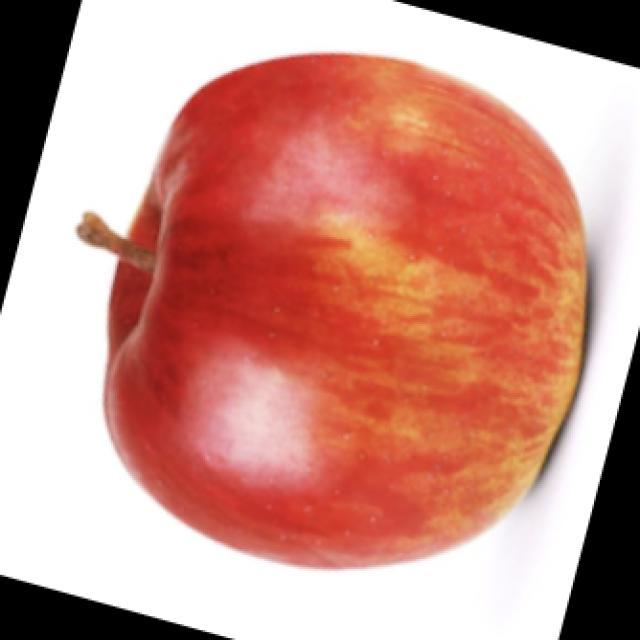Fresh Apple: (93, 47, 577, 563)
